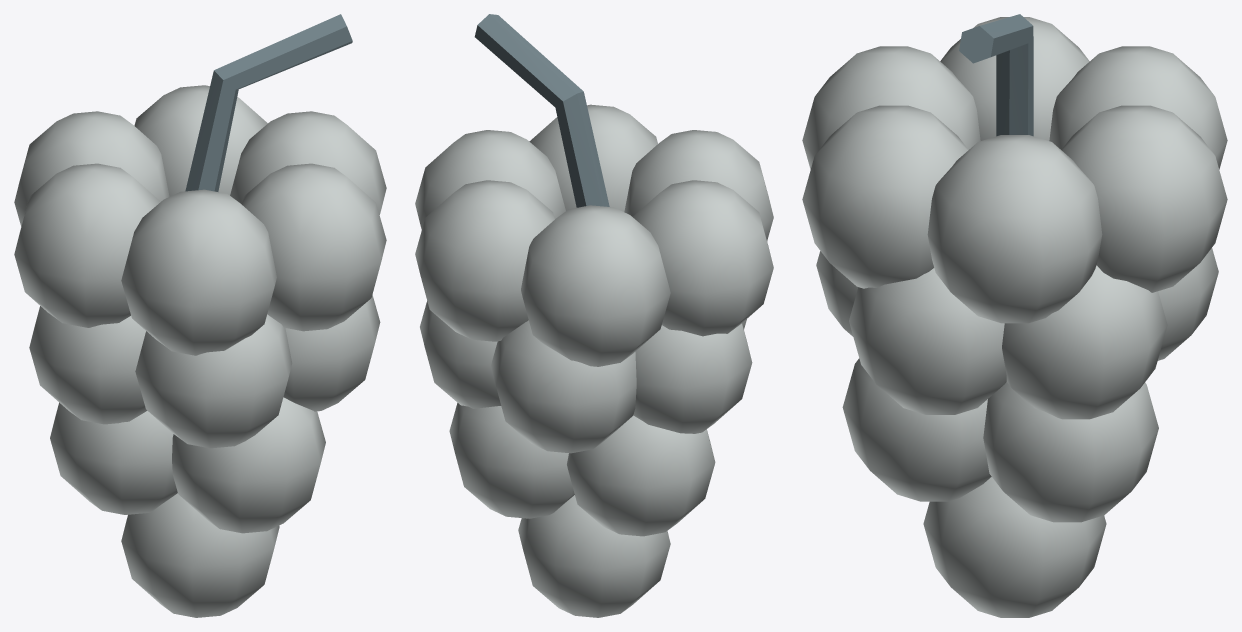
File: grapes.glb
3 renders of one model, left to right at view 1: azimuth 30°, elevation 25°; view 2: azimuth 150°, elevation 25°; view 3: azimuth 270°, elevation 25°, orthographic. The views are drawn at different scales.
Visible parts, largest first — view 1: grape_0_2, grape_0_1, grape_0_3, grape_1_1, grape_2_0, grape_3_0, grape_2_1, grape_1_2, grape_0_4, grape_0_0, branch, grape_1_0 (+1 smaller); view 2: grape_0_4, grape_0_5, grape_0_3, grape_2_1, grape_1_3, grape_3_0, grape_1_2, grape_2_2, branch, grape_0_2, grape_0_0, grape_0_1 (+1 smaller); view 3: grape_0_0, grape_0_5, grape_0_1, grape_2_2, grape_1_4, grape_3_0, grape_1_0, grape_2_0, grape_0_2, grape_0_4, grape_0_3, branch (+2 smaller).
Boxes of the visible parts, box(x1,y1,x2,y2) form: grape_0_2: box(121, 189, 276, 355); grape_0_1: box(241, 163, 386, 331); grape_0_3: box(14, 163, 160, 327); grape_1_1: box(135, 314, 292, 448); grape_2_0: box(172, 397, 325, 533); grape_3_0: box(121, 493, 279, 617); grape_2_1: box(50, 402, 177, 514); grape_1_2: box(29, 306, 147, 424); grape_0_4: box(14, 111, 169, 226); grape_0_0: box(230, 111, 386, 214); branch: box(185, 14, 352, 191); grape_1_0: box(283, 295, 380, 411); grape_0_4: box(521, 205, 670, 366); grape_0_5: box(415, 180, 554, 341); grape_0_3: box(633, 180, 773, 336); grape_2_1: box(567, 415, 715, 536); grape_1_3: box(491, 320, 636, 453); grape_3_0: box(518, 495, 670, 617); grape_1_2: box(633, 323, 752, 433); grape_2_2: box(449, 403, 574, 518); branch: box(474, 14, 609, 207); grape_0_2: box(624, 130, 773, 240); grape_0_0: box(415, 130, 565, 229); grape_0_1: box(529, 104, 657, 211); grape_0_0: box(927, 135, 1102, 323); grape_0_5: box(1061, 105, 1227, 292); grape_0_1: box(802, 105, 968, 288); grape_2_2: box(983, 382, 1158, 522); grape_1_4: box(1002, 265, 1167, 419); grape_3_0: box(923, 477, 1106, 617); grape_1_0: box(849, 268, 1006, 414); grape_2_0: box(842, 358, 991, 501); grape_0_2: box(802, 46, 980, 169); grape_0_4: box(1049, 46, 1227, 169); grape_0_3: box(940, 17, 1089, 140); branch: box(959, 14, 1033, 136).
Bounding box in the file's own units: 0.0941 × 0.1498 × 0.0882.
